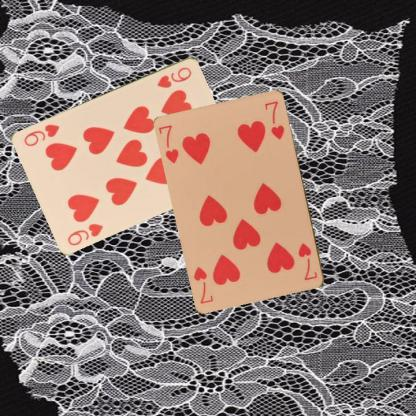7h: (296, 240, 319, 282), (157, 122, 180, 164)
9h: (64, 220, 104, 247), (154, 64, 193, 89)
